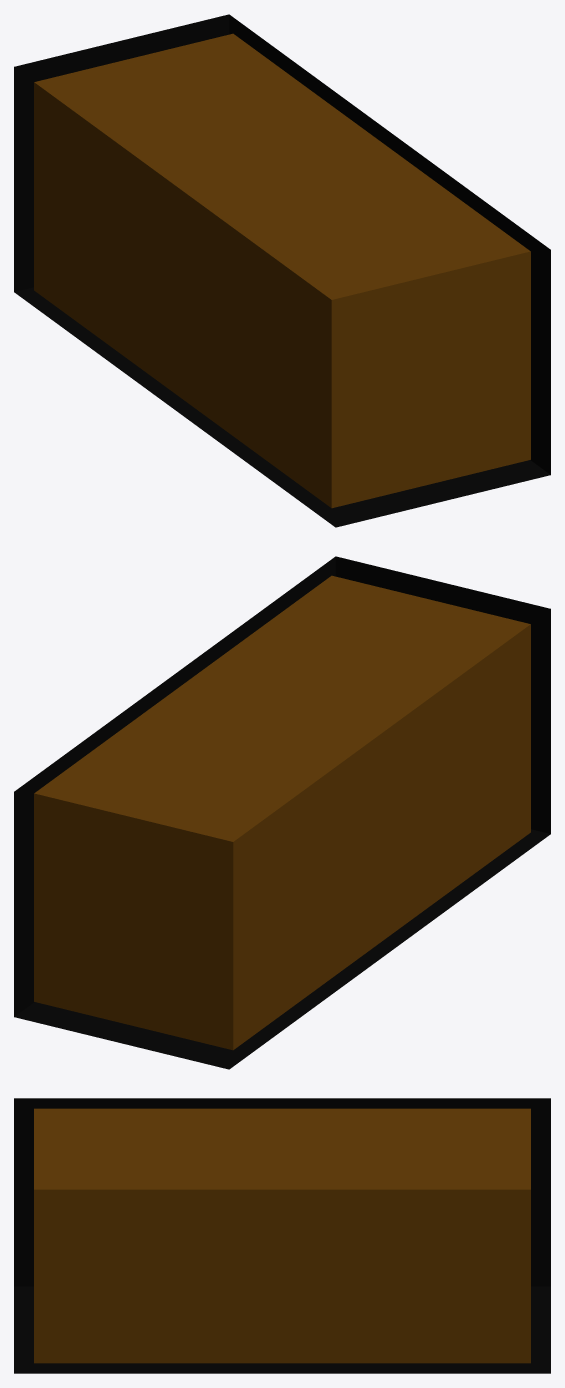
The model's file is tippys_waiting_desk_1.fbx.
3 views of the same model, one above another, from view 1: azimuth 30°, elevation 25°; view 2: azimuth 150°, elevation 25°; view 3: azimuth 270°, elevation 25° (orthographic). The views are drawn at different scales.
Visible parts, largest first — view 1: waiting_desk; view 2: waiting_desk; view 3: waiting_desk.
Part boxes in pixels (x1,y1,x2,y2): waiting_desk: [14, 14, 550, 527]; waiting_desk: [14, 556, 550, 1069]; waiting_desk: [14, 1098, 550, 1373].
Size of the model in its own units: 200 by 200 by 518.
